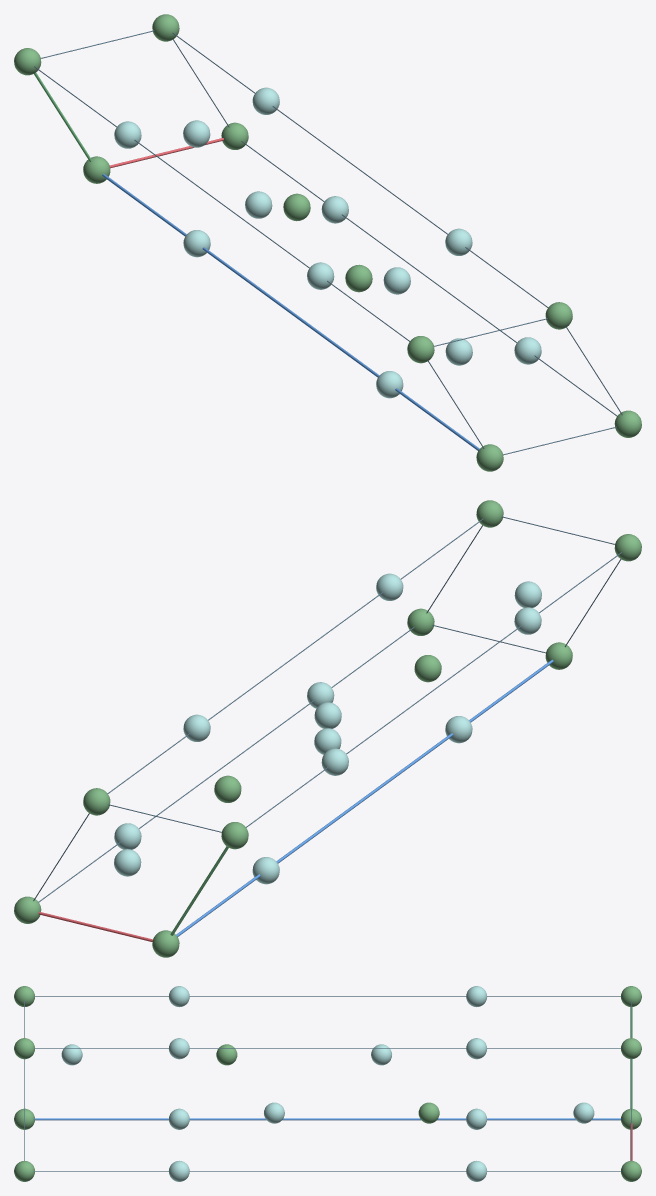
Rendered from chat-nickel-bromide.glb.
The picture shows the model from 3 angles, top to bottom: view 1: azimuth 30°, elevation 25°; view 2: azimuth 150°, elevation 25°; view 3: azimuth 270°, elevation 25°; orthographic projection. The views are drawn at different scales.
Parts seen in each view (by area): view 1: Ô mạng và các trục a, b, c; view 2: Ô mạng và các trục a, b, c; view 3: Br · Br · 1 (×12), Ô mạng và các trục a, b, c, Ni · Ni · 1 (×10).
Boxes of the visible parts, x1,y1,x2,y2 form: Ô mạng và các trục a, b, c: (34, 30, 622, 455); Ô mạng và các trục a, b, c: (33, 516, 621, 941); Br · Br · 1 (×12): (61, 986, 594, 1181); Ô mạng và các trục a, b, c: (24, 996, 632, 1171); Ni · Ni · 1 (×10): (14, 986, 641, 1181).
Bounding box in the file's own units: 6.22 × 3.86 × 18.98.
